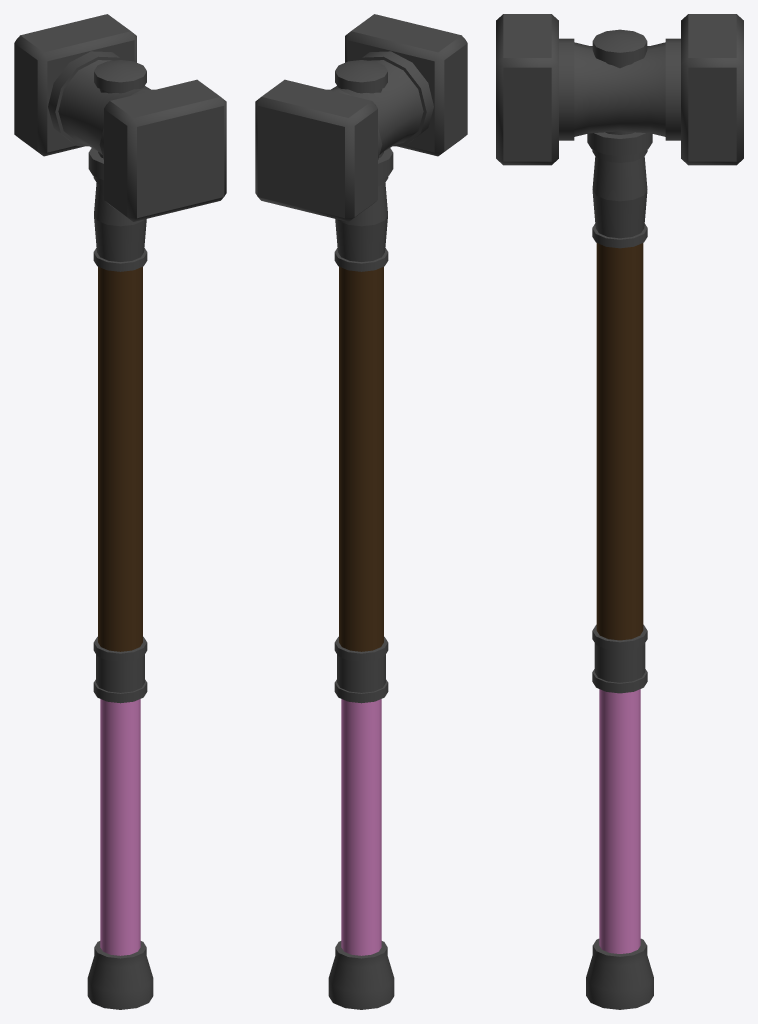
Rendered from Hammer.fbx.
3 renders of one model, left to right at view 1: azimuth 30°, elevation 25°; view 2: azimuth 150°, elevation 25°; view 3: azimuth 270°, elevation 25°, orthographic. The views are drawn at different scales.
Parts seen in each view (by area): view 1: Top; view 2: Top; view 3: Top.
Part boxes in pixels (box(x1,y1,x2,y2)): Top: box(14, 14, 226, 1009); Top: box(255, 14, 467, 1009); Top: box(496, 14, 743, 1009).
Bounding box in the file's own units: 200 × 1813 × 419.
